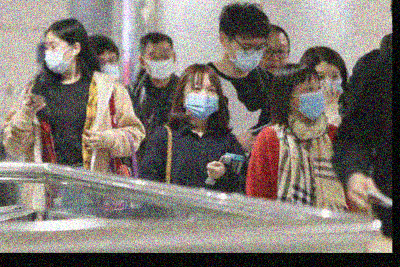with_mask: (183, 83, 220, 119), (228, 39, 267, 72), (297, 78, 326, 120), (43, 39, 73, 75), (147, 45, 175, 81), (316, 69, 343, 96), (98, 55, 121, 83)
without_mask: (259, 41, 290, 76)
